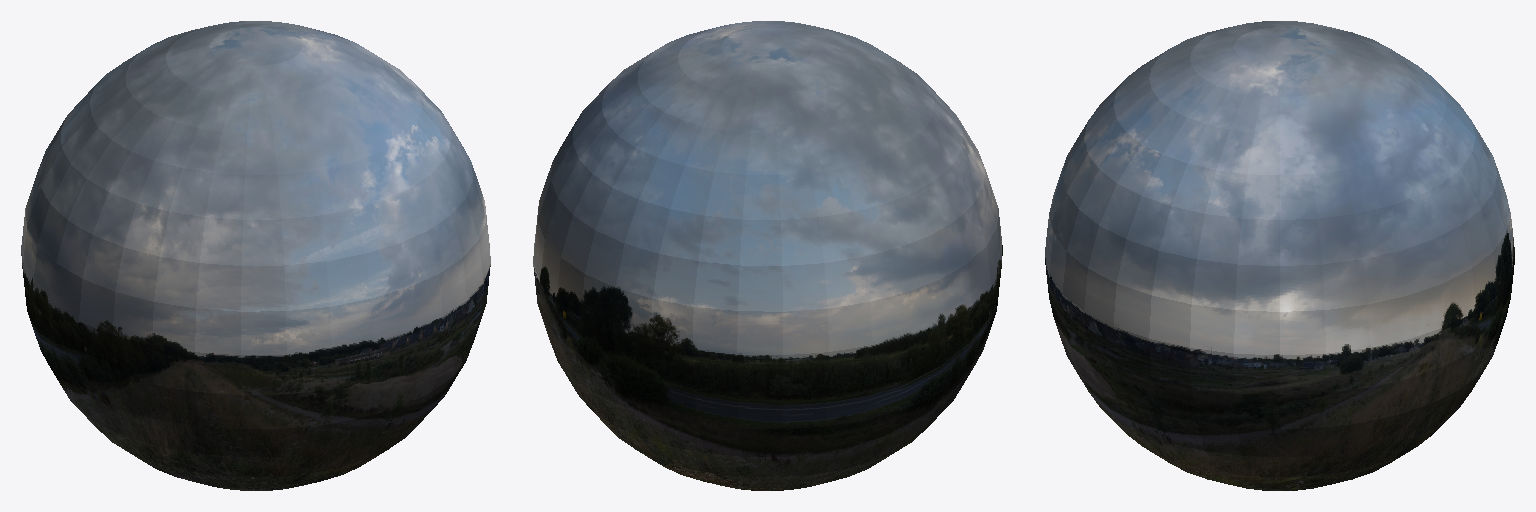
3 views of the same model, side by side, from view 1: azimuth 30°, elevation 25°; view 2: azimuth 150°, elevation 25°; view 3: azimuth 270°, elevation 25° (orthographic).
Parts seen in each view (by area): view 1: 球; view 2: 球; view 3: 球.
Part boxes in pixels (left/top/right/bottom): 球: left=21, top=21, right=490, bottom=490; 球: left=533, top=21, right=1002, bottom=490; 球: left=1045, top=21, right=1514, bottom=490.
Bounding box in the file's own units: 7.5 × 7.5 × 7.5.
Materials: 1 (1 with a texture image).